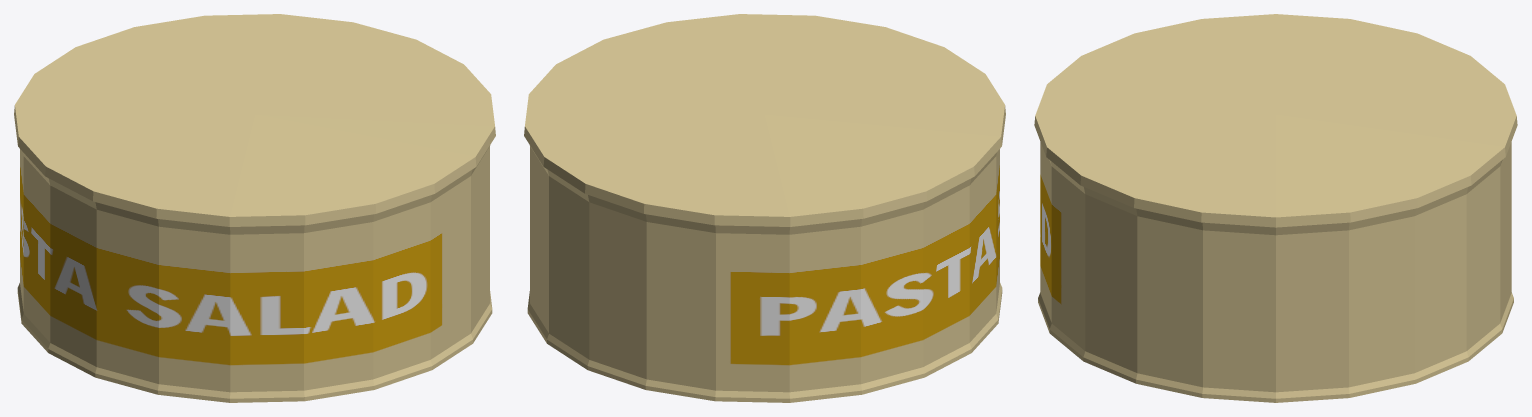
Rendered from TunaCan.obj.
3 renders of one model, left to right at view 1: azimuth 30°, elevation 25°; view 2: azimuth 150°, elevation 25°; view 3: azimuth 270°, elevation 25°, orthographic.
Bounding box in the file's own units: 1.69 × 0.7258 × 1.69.
Materials: 1 (1 with a texture image).
